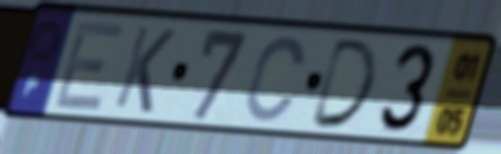3: (376, 41, 440, 138)
7: (192, 24, 253, 124)
C: (242, 33, 309, 125)
D: (305, 36, 382, 132)
E: (50, 19, 129, 115)
K: (110, 22, 179, 117)
